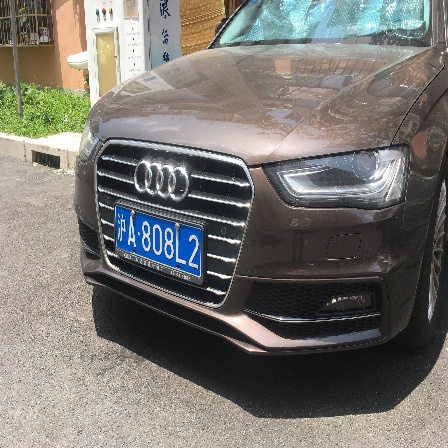plate: (109, 201, 209, 279)
